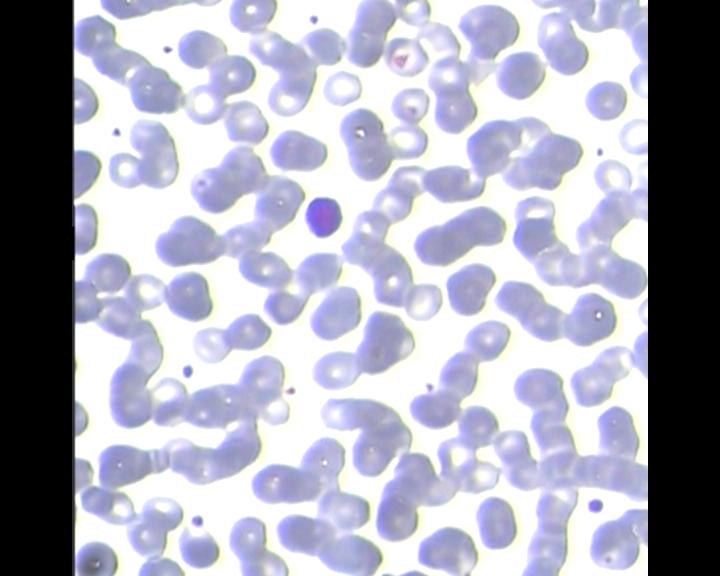lymp: (301, 189, 347, 238)
